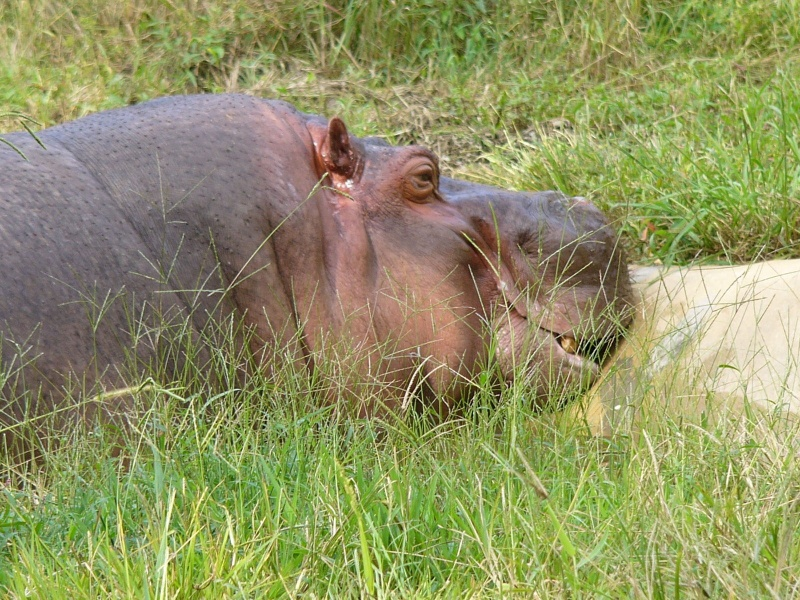hipopotamo: (0, 88, 636, 432)
